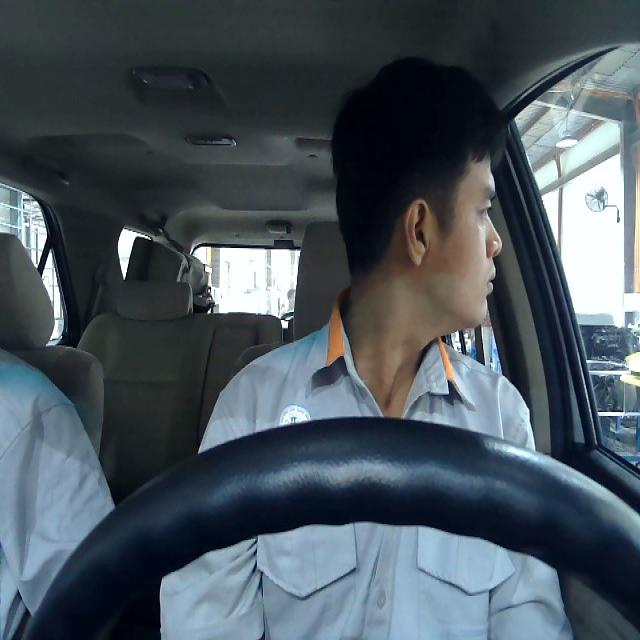seeing_right: (401, 143, 503, 329)
